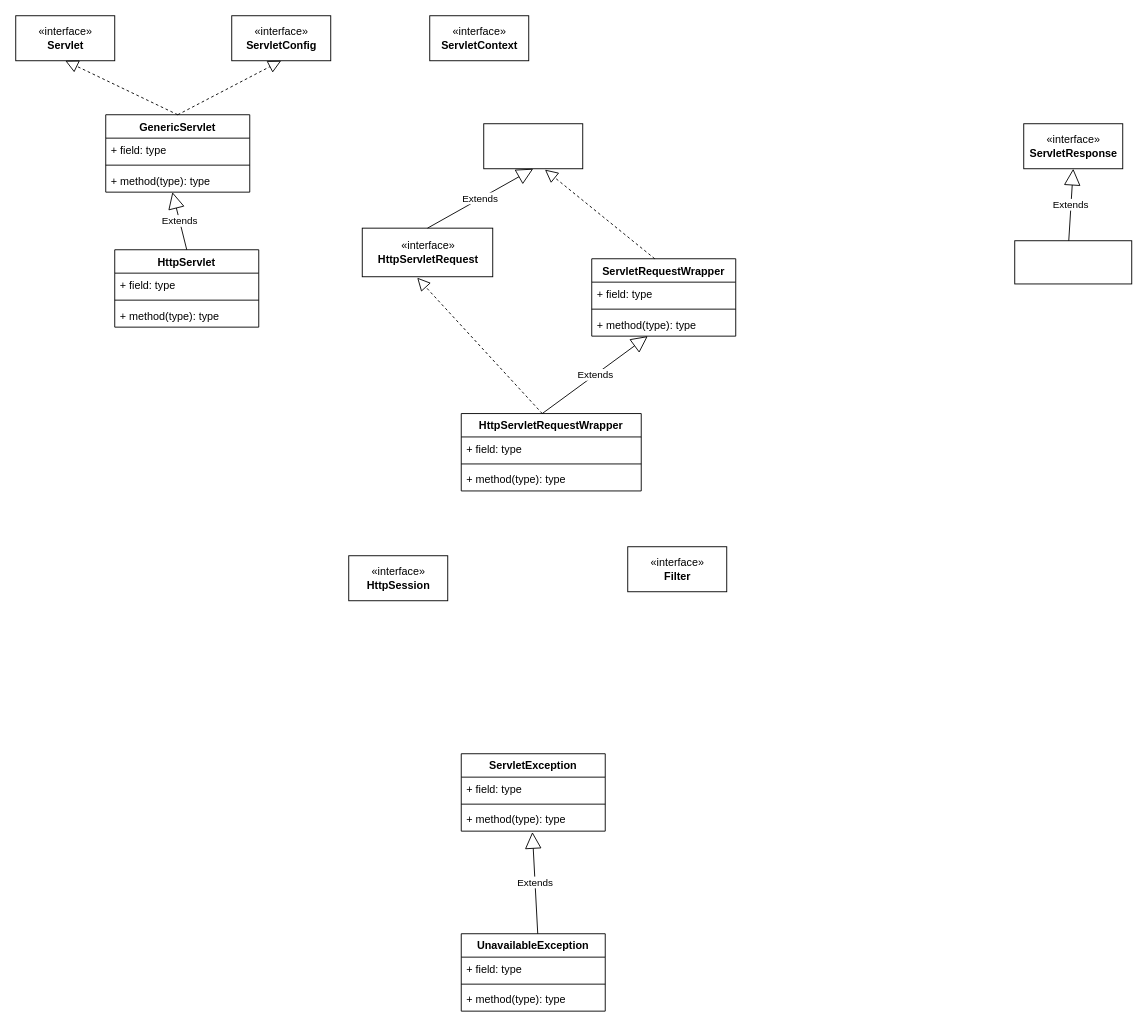
Some shapes in this 1148 by 1030 pixel diagram are drawn without their labels. The shapes that lost their labels are listed below. From the top down, each one's centre as x and y in pixels, then its label:
At [533,146]: "«interface» ServletRequest".
At [1073,262]: "«interface» HttpServletResponse".
